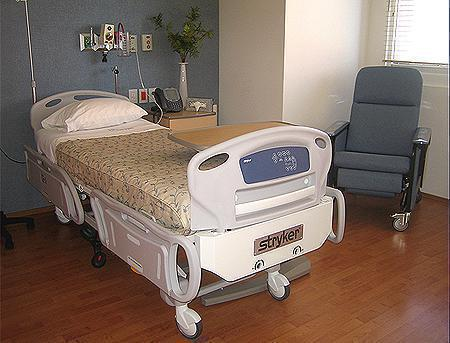Cama: (36, 88, 348, 325)
Ventana: (383, 4, 449, 72)
